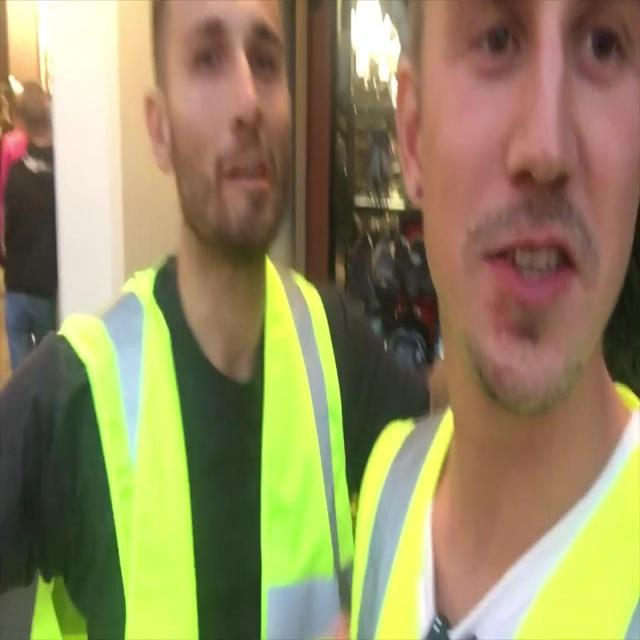Reflective-Jacket: (39, 253, 356, 635), (354, 396, 640, 640)
